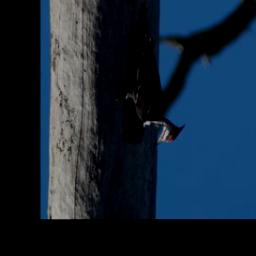Woodpecker: (112, 2, 186, 148)
